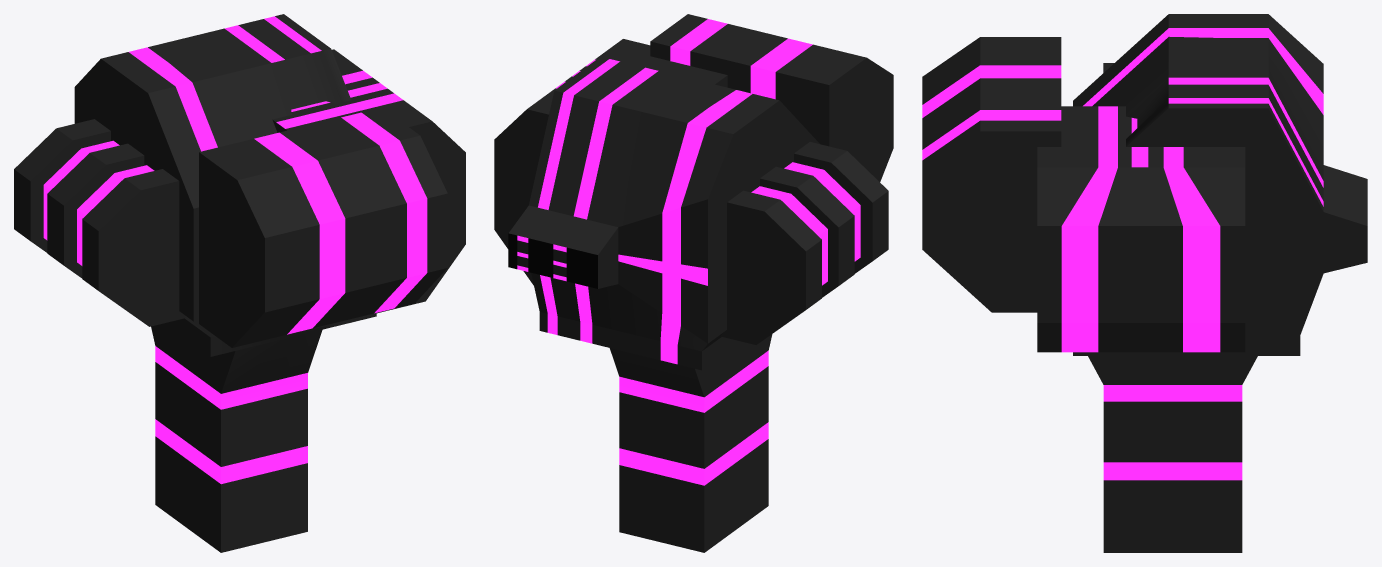
Rendered from Repulsor-Attractor-standing.fbx.
3 renders of one model, left to right at view 1: azimuth 30°, elevation 25°; view 2: azimuth 150°, elevation 25°; view 3: azimuth 270°, elevation 25°, orthographic. The views are drawn at different scales.
Visible parts, largest first — view 1: pCube9; view 2: pCube9; view 3: pCube9.
Boxes of the visible parts, x1,y1,x2,y2 form: pCube9: (14,14,465,552); pCube9: (494,14,893,552); pCube9: (922,14,1367,552).
Size of the model in its own units: 4.25 by 5.41 by 4.62.
